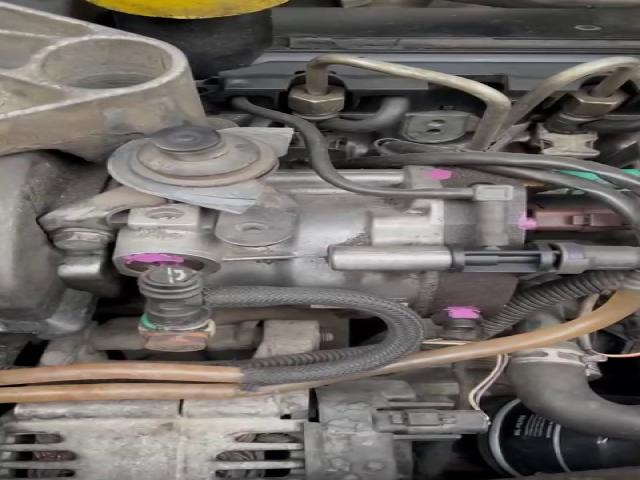alternator: (4, 391, 309, 480)
high_pressure_pump: (110, 165, 636, 338)
